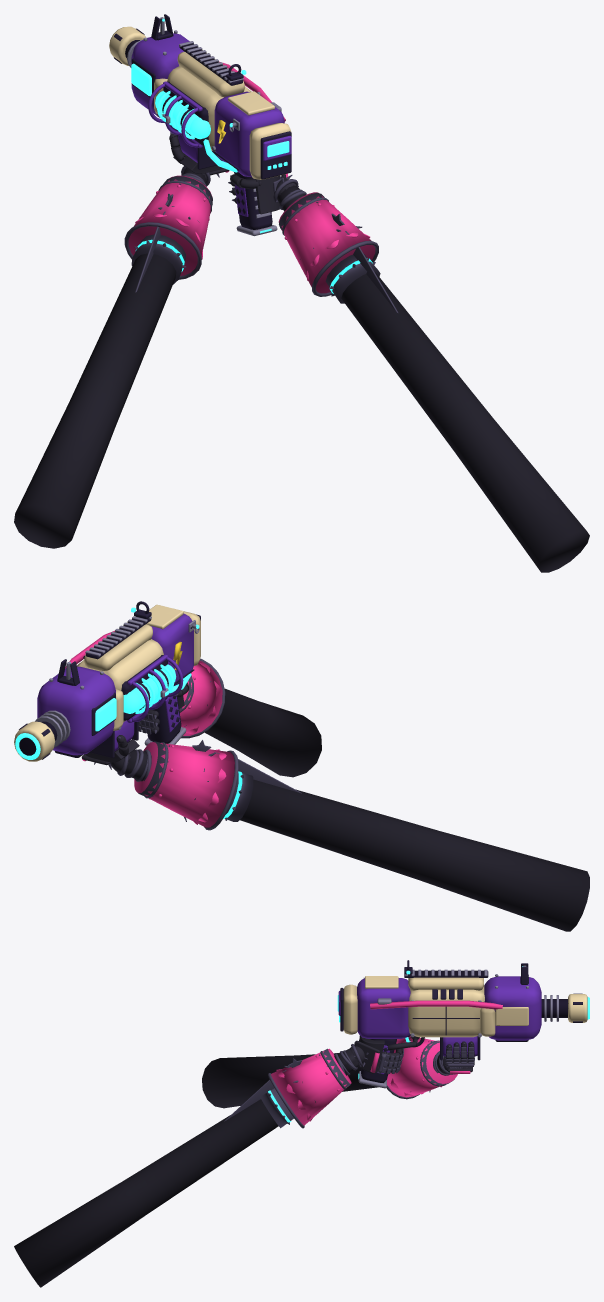
File: ion_carbine.glb
3 renders of one model, top to bottom at view 1: azimuth 30°, elevation 25°; view 2: azimuth 150°, elevation 25°; view 3: azimuth 270°, elevation 25°, orthographic. The views are drawn at different scales.
Parts seen in each view (by area): view 1: ArmR, ArmL, Shell, ArmRKitBell, ArmLKitBell, Panel, Cell; view 2: ArmL, Shell, ArmR, ArmLKitBell, ArmRKitBell, Panel, Cell, ArmLKitFins, ArmLKitGauntlet, IronSightFront; view 3: Shell, ArmR, ArmL, ArmRKitBell, ArmLKitBell, ArmLKitGauntlet, ArmRKitGauntlet, ArmRKitMitten.
Part boxes in pixels (box(x1,y1,x2,y2)): ArmR: box(230, 174, 589, 572); ArmL: box(14, 133, 223, 548); Shell: box(109, 26, 291, 236); ArmRKitBell: box(278, 192, 378, 296); ArmLKitBell: box(124, 175, 212, 279); Panel: box(148, 81, 202, 148); Cell: box(155, 91, 210, 139); ArmL: box(85, 735, 589, 931); Shell: box(14, 604, 200, 761); ArmR: box(138, 682, 321, 777); ArmLKitBell: box(134, 740, 238, 830); ArmRKitBell: box(179, 658, 225, 738); Panel: box(127, 654, 183, 722); Cell: box(123, 664, 176, 713); ArmLKitFins: box(214, 752, 301, 793); ArmLKitGauntlet: box(85, 741, 174, 799); IronSightFront: box(57, 659, 79, 685); Shell: box(337, 969, 589, 1088); ArmR: box(14, 1035, 417, 1287); ArmL: box(202, 1041, 474, 1108); ArmRKitBell: box(268, 1048, 351, 1128); ArmLKitBell: box(386, 1034, 457, 1099); ArmLKitGauntlet: box(416, 1040, 473, 1087); ArmRKitGauntlet: box(315, 1041, 403, 1091); ArmRKitMitten: box(354, 1040, 379, 1073).
Size of the model in its own units: 1.47 by 1.14 by 2.06.
